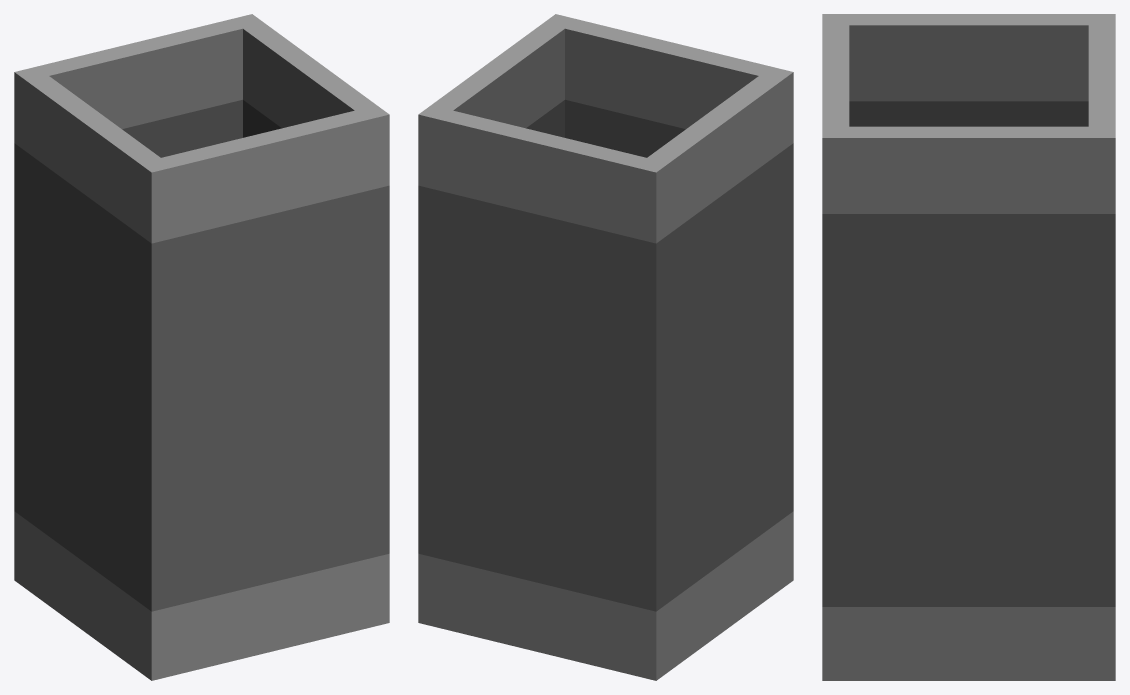
File: SO_RubbishBin_02.fbx
The picture shows the model from 3 angles, left to right: view 1: azimuth 30°, elevation 25°; view 2: azimuth 150°, elevation 25°; view 3: azimuth 270°, elevation 25°; orthographic projection. The views are drawn at different scales.
Visible parts, largest first — view 1: SO_RubbishBin_02; view 2: SO_RubbishBin_02; view 3: SO_RubbishBin_02.
Boxes of the visible parts, x1,y1,x2,y2 form: SO_RubbishBin_02: (14, 14, 389, 680); SO_RubbishBin_02: (418, 14, 793, 680); SO_RubbishBin_02: (822, 14, 1115, 680).
Bounding box in the file's own units: 0.3787 × 0.7732 × 0.3787.
